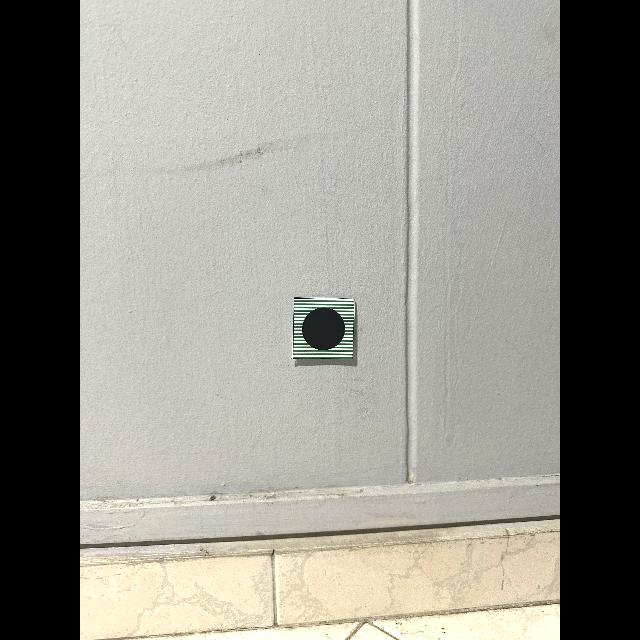CIRCLE: (302, 307, 345, 350)
